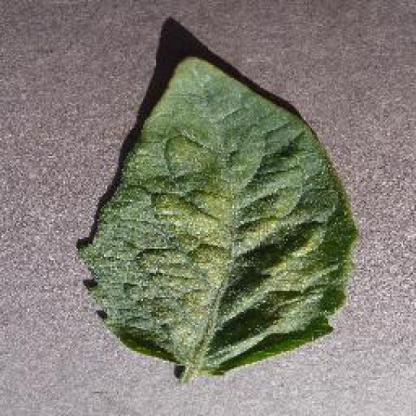Tomato_Spider_Mites: (79, 57, 358, 358)
